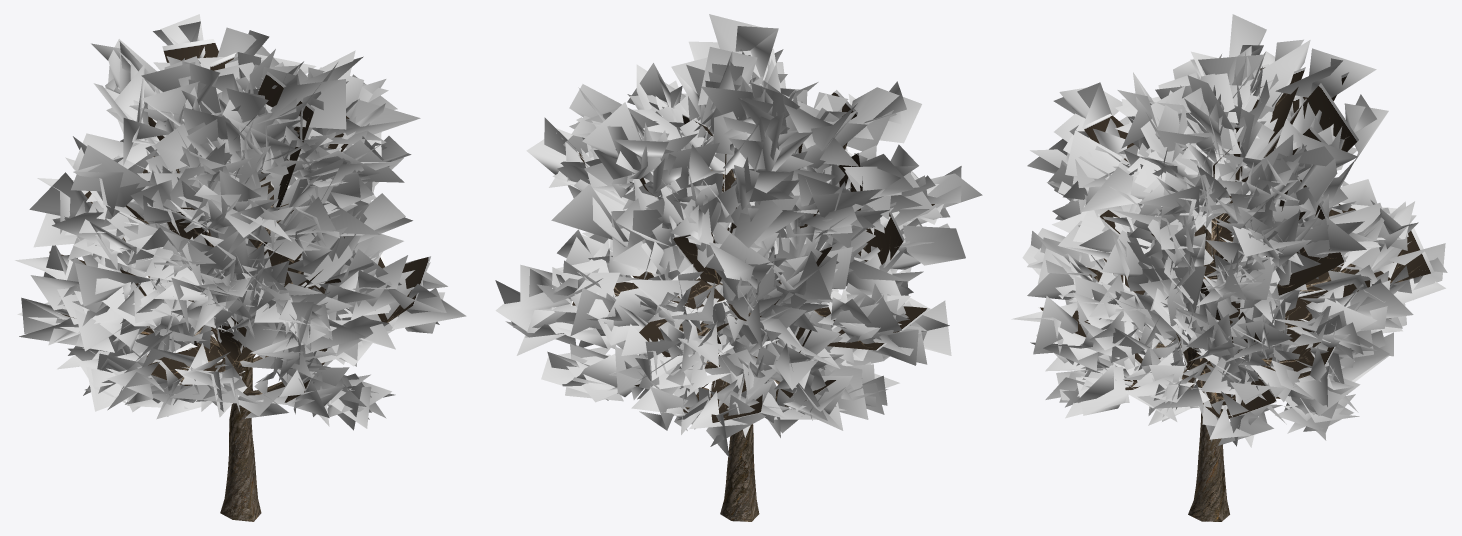
File: Tree01.fbx
The picture shows the model from 3 angles, left to right: view 1: azimuth 30°, elevation 25°; view 2: azimuth 150°, elevation 25°; view 3: azimuth 270°, elevation 25°; orthographic projection. The views are drawn at different scales.
Visible parts, largest first — view 1: Leaf_6, Bark_9; view 2: Leaf_6, Bark_9; view 3: Leaf_6, Bark_9.
Part boxes in pixels (x1,y1,x2,y2): Leaf_6: [15, 14, 466, 430]; Bark_9: [210, 203, 288, 521]; Leaf_6: [495, 14, 982, 457]; Bark_9: [701, 283, 759, 521]; Leaf_6: [1011, 14, 1447, 447]; Bark_9: [1139, 213, 1229, 521].
Bounding box in the file's own units: 5653 × 6057 × 5338.
